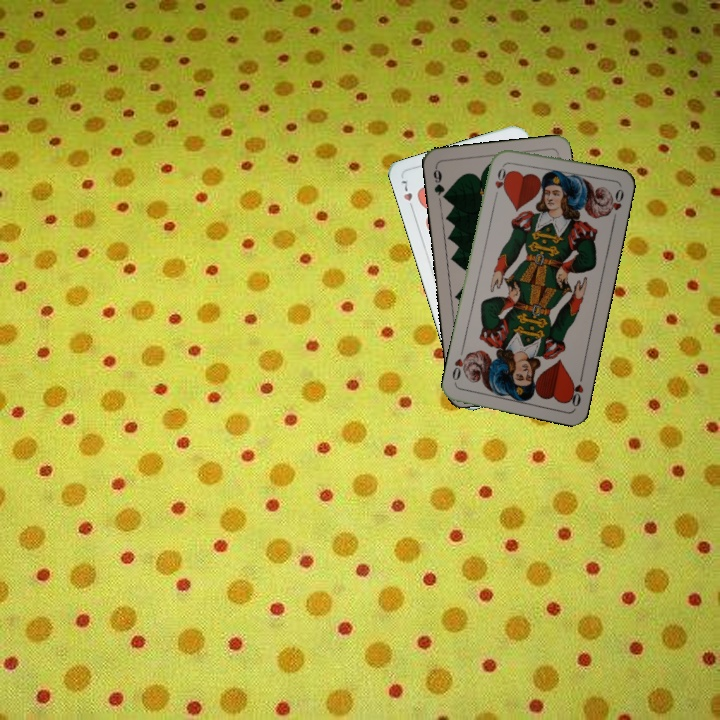G9: (429, 163, 450, 203)
H7: (397, 176, 417, 214)
HO: (565, 369, 586, 409), (490, 161, 509, 201)
